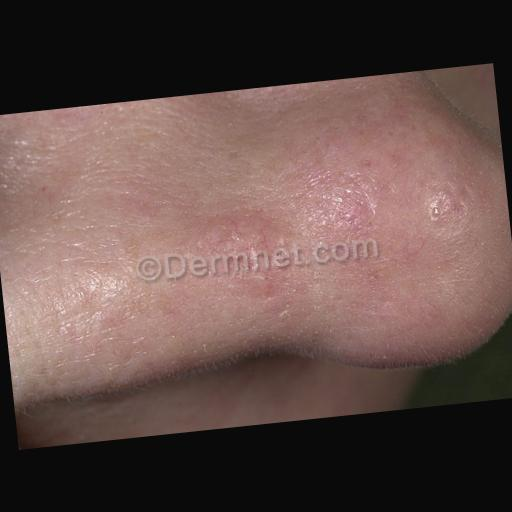Skin_Lesion: (194, 215, 296, 303), (418, 181, 468, 229)
